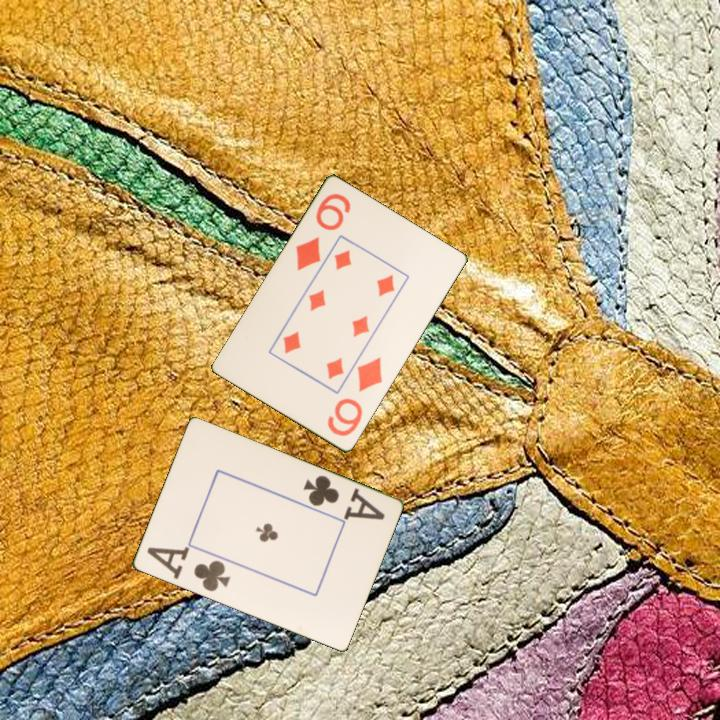6d: (324, 354, 386, 440), (292, 190, 354, 274)
Ac: (143, 543, 233, 595), (299, 472, 387, 523)
